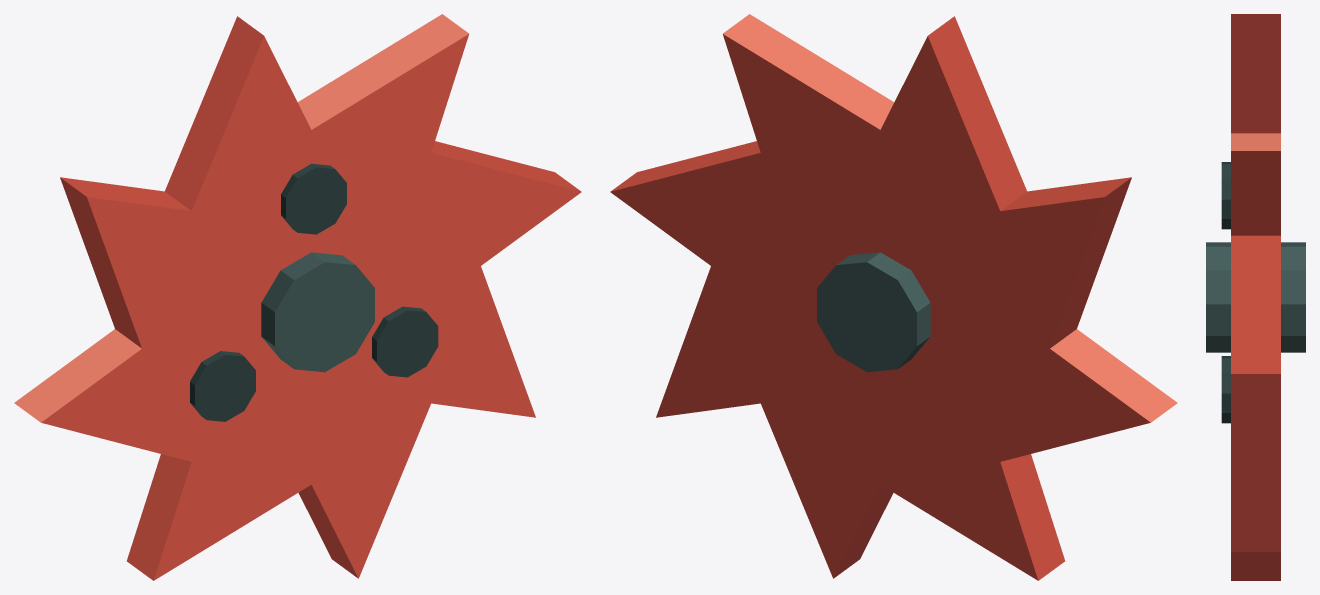
File: Spikes_Saw.gltf
The picture shows the model from 3 angles, left to right: view 1: azimuth 30°, elevation 25°; view 2: azimuth 150°, elevation 25°; view 3: azimuth 270°, elevation 25°; orthographic projection. The views are drawn at different scales.
Visible parts, largest first — view 1: Spikes_Saw_baked; view 2: Spikes_Saw_baked; view 3: Spikes_Saw_baked.
Part boxes in pixels (x1,y1,x2,y2): Spikes_Saw_baked: (14,14,581,580); Spikes_Saw_baked: (610,14,1177,580); Spikes_Saw_baked: (1206,14,1305,580).
Bounding box in the file's own units: 0.926 × 0.926 × 0.16.
